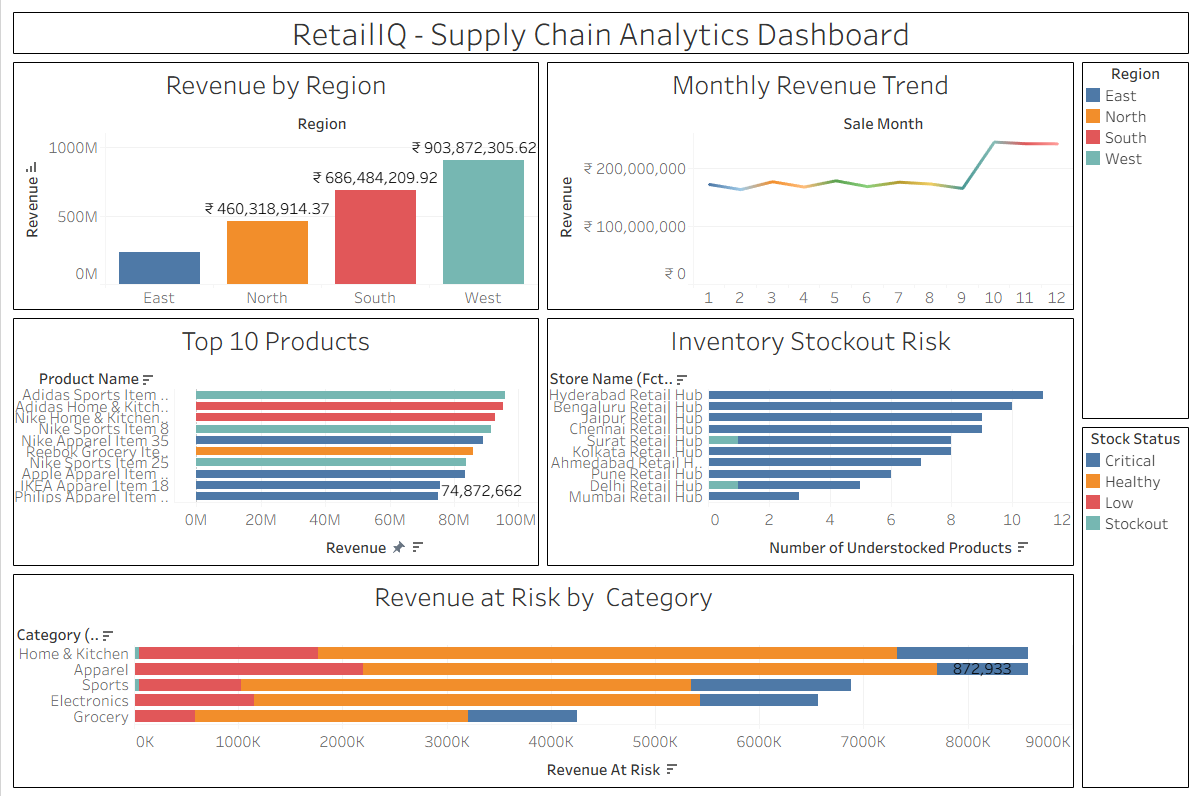

The page's visual inventory and layout, read from the dashboard file:
{"tool":"tableau","page":{"name":"RetailIQ - Supply Chain Analytics Dashboard","canvas":[1200,800],"ordinal":0},"visuals":[{"type":"title","box":[8,8,1184,50]},{"type":"worksheet","title":"Revenue by Region","mark":"Automatic","rows":["revenue"],"cols":["region"],"box":[8,58,534,256]},{"type":"worksheet","title":"Monthly Revenue Trend","mark":"Line","rows":["revenue"],"cols":["sale_month"],"box":[542,58,535,256]},{"type":"legend","title":"Revenue by Region","param":"[federated.0tugh381b93hhg15idhkx1f4oqbf].[none:region:nk]","box":[1077,58,115,365]},{"type":"worksheet","title":"Top 10 Products","mark":"Automatic","rows":["product_name"],"cols":["revenue"],"box":[8,314,534,256.1]},{"type":"worksheet","title":"Inventory Stockout Risk","mark":"Automatic","rows":["store_name (fct_inventory_health)"],"cols":["is_understocked"],"box":[542,314,535,256.1]},{"type":"legend","title":"Inventory Stockout Risk","param":"[federated.0tugh381b93hhg15idhkx1f4oqbf].[none:stock_status:nk]","box":[1077,423,115,369]},{"type":"worksheet","title":"Revenue at Risk by Category","mark":"Automatic","rows":["category (fct_inventory_health)"],"cols":["revenue_at_risk"],"box":[8,570.1,1069,221.9]}]}

Visuals, with their boxes in screenshot pixels (x1, y1, x2, y2), scaled from the page's 1200x800 canvas onto the 1200x796 screenshot:
title: pyautogui.locateOnScreen(8, 8, 1192, 58)
"Revenue by Region" worksheet: pyautogui.locateOnScreen(8, 58, 542, 312)
"Monthly Revenue Trend" worksheet (Line marks): pyautogui.locateOnScreen(542, 58, 1077, 312)
"Revenue by Region" legend: pyautogui.locateOnScreen(1077, 58, 1192, 421)
"Top 10 Products" worksheet: pyautogui.locateOnScreen(8, 312, 542, 567)
"Inventory Stockout Risk" worksheet: pyautogui.locateOnScreen(542, 312, 1077, 567)
"Inventory Stockout Risk" legend: pyautogui.locateOnScreen(1077, 421, 1192, 788)
"Revenue at Risk by Category" worksheet: pyautogui.locateOnScreen(8, 567, 1077, 788)
